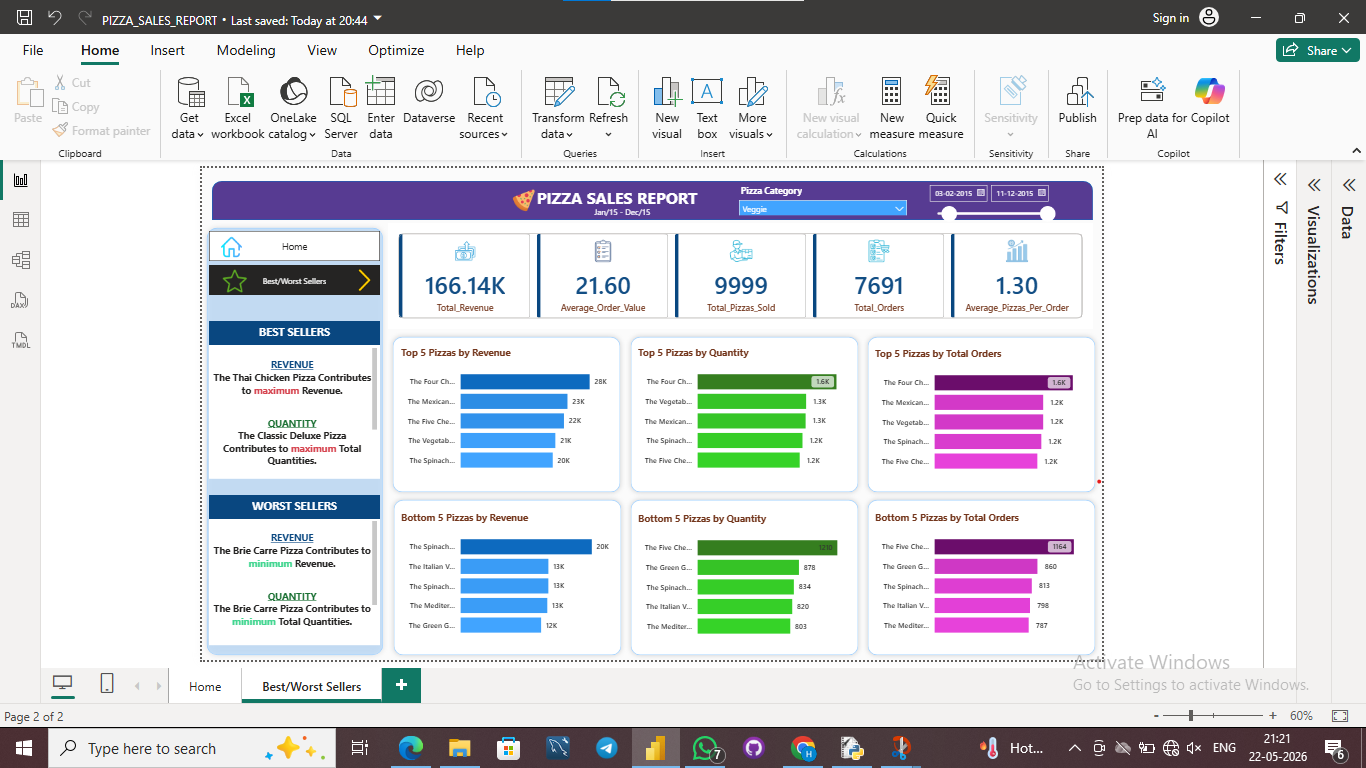

This screenshot's page, from the dashboard's own definition file:
{"tool":"powerbi","page":{"name":"Best/Worst Sellers","canvas":[1500,820],"ordinal":1},"visuals":[{"type":"shape","box":[0,91.7,310,728.3],"z":0},{"type":"cardVisual","fields":{"Data":["pizza_db pizza_sales.Total_Revenue","pizza_db pizza_sales.Average_Order_Value","pizza_db pizza_sales.Total_Pizzas_Sold","pizza_db pizza_sales.Total_Orders","pizza_db pizza_sales.Average_Pizzas_Per_Order"]},"box":[310,91.7,1175,176.7],"z":1000},{"type":"shape","box":[16.7,21.7,1468.3,65],"z":2000},{"type":"textbox","box":[551.7,26.7,280,56.7],"z":3000},{"type":"textbox","box":[641.7,60,128.3,45],"z":4000},{"type":"image","box":[508.3,35,56.7,38.3],"z":5000},{"type":"shape","box":[310,273.3,395,275],"z":6000},{"type":"textbox","box":[11.7,255,285,40],"z":7000},{"type":"textbox","box":[11.7,295,285,223.3],"z":8000},{"type":"textbox","box":[11.7,583.3,285,211.7],"z":9000},{"type":"textbox","box":[11.7,545,285,40],"z":10000},{"type":"slicer","title":"Pizza Category","fields":{"Values":["pizza_db pizza_sales.pizza_category"]},"box":[885,21.7,300,56.7],"z":11000},{"type":"slicer","title":"Pizza Category","fields":{"Values":["pizza_db pizza_sales.order_date"]},"box":[1200,18.3,241.7,83.3],"z":12000},{"type":"shape","box":[706.7,273.3,395,275],"z":13000},{"type":"shape","box":[1101.7,273.3,395,275],"z":14000},{"type":"shape","box":[311.7,545,395,275],"z":15000},{"type":"shape","box":[706.7,545,395,275],"z":16000},{"type":"shape","box":[1101.7,545,395,275],"z":17000},{"type":"barChart","title":"Top 5 Pizzas by Revenue","fields":{"Category":["pizza_db pizza_sales.pizza_name"],"Y":["pizza_db pizza_sales.Total_Revenue"]},"box":[326.7,296.7,365,221.7],"z":18000},{"type":"barChart","title":"Top 5 Pizzas by Quantity","fields":{"Category":["pizza_db pizza_sales.pizza_name"],"Y":["pizza_db pizza_sales.Total_Pizzas_Sold"]},"box":[721.7,296.7,365,221.7],"z":19000},{"type":"barChart","title":" Bottom 5 Pizzas by Revenue","fields":{"Category":["pizza_db pizza_sales.pizza_name"],"Y":["pizza_db pizza_sales.Total_Revenue"]},"box":[326.7,571.7,365,221.7],"z":20000},{"type":"barChart","title":"Top 5 Pizzas by Total Orders","fields":{"Category":["pizza_db pizza_sales.pizza_name"],"Y":["pizza_db pizza_sales.Total_Orders"]},"box":[1116.7,298.3,365,221.7],"z":21000},{"type":"barChart","title":"Bottom 5 Pizzas by Quantity","fields":{"Category":["pizza_db pizza_sales.pizza_name"],"Y":["pizza_db pizza_sales.Total_Pizzas_Sold"]},"box":[721.7,573.3,365,221.7],"z":22000},{"type":"barChart","title":"Bottom 5 Pizzas by Total Orders","fields":{"Category":["pizza_db pizza_sales.pizza_name"],"Y":["pizza_db pizza_sales.Total_Orders"]},"box":[1116.7,571.7,365,221.7],"z":23000},{"type":"pageNavigator","box":[11.7,105,285,50],"z":24000},{"type":"pageNavigator","box":[11.7,161.7,285,50],"z":25000},{"type":"image","box":[245,168.3,51.7,36.7],"z":26000},{"type":"image","box":[31.7,108.3,35,46.7],"z":27000},{"type":"image","box":[16.7,168.3,75,40],"z":28000}]}

Visuals, with their boxes on the page's 1500x820 design canvas (x1, y1, x2, y2). These are canvas units, not pixel positions in the 1366x768 screenshot, which may show the page scaled, cropped or inside an application window:
shape: region(0, 92, 310, 820)
cardVisual - pizza_db pizza_sales.Total_Revenue x pizza_db pizza_sales.Average_Order_Value: region(310, 92, 1485, 268)
shape: region(17, 22, 1485, 87)
textbox: region(552, 27, 832, 83)
textbox: region(642, 60, 770, 105)
image: region(508, 35, 565, 73)
shape: region(310, 273, 705, 548)
textbox: region(12, 255, 297, 295)
textbox: region(12, 295, 297, 518)
textbox: region(12, 583, 297, 795)
textbox: region(12, 545, 297, 585)
"Pizza Category" slicer: region(885, 22, 1185, 78)
"Pizza Category" slicer: region(1200, 18, 1442, 102)
shape: region(707, 273, 1102, 548)
shape: region(1102, 273, 1497, 548)
shape: region(312, 545, 707, 820)
shape: region(707, 545, 1102, 820)
shape: region(1102, 545, 1497, 820)
"Top 5 Pizzas by Revenue" barChart: region(327, 297, 692, 518)
"Top 5 Pizzas by Quantity" barChart: region(722, 297, 1087, 518)
" Bottom 5 Pizzas by Revenue" barChart: region(327, 572, 692, 793)
"Top 5 Pizzas by Total Orders" barChart: region(1117, 298, 1482, 520)
"Bottom 5 Pizzas by Quantity" barChart: region(722, 573, 1087, 795)
"Bottom 5 Pizzas by Total Orders" barChart: region(1117, 572, 1482, 793)
pageNavigator: region(12, 105, 297, 155)
pageNavigator: region(12, 162, 297, 212)
image: region(245, 168, 297, 205)
image: region(32, 108, 67, 155)
image: region(17, 168, 92, 208)
